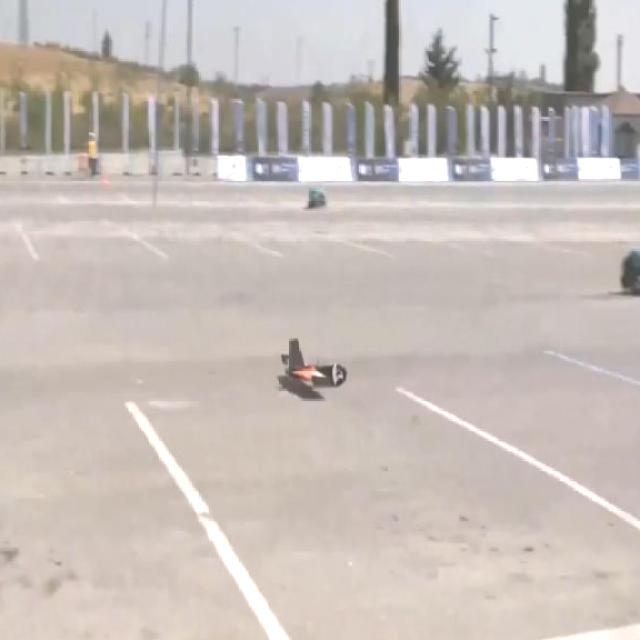plane: (280, 336, 349, 391)
